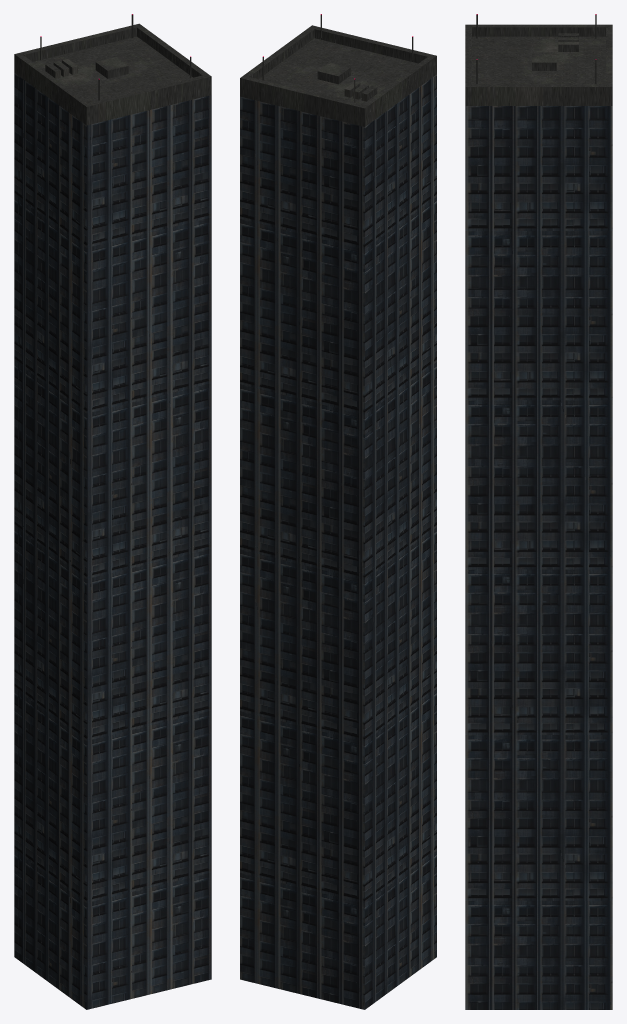
File: dark-skyscraper.glb
3 views of the same model, side by side, from view 1: azimuth 30°, elevation 25°; view 2: azimuth 150°, elevation 25°; view 3: azimuth 270°, elevation 25° (orthographic). The views are drawn at different scales.
Parts seen in each view (by area): view 1: dark-skyscraper.001; view 2: dark-skyscraper.001; view 3: dark-skyscraper.001.
Boxes of the visible parts, left/top/right/bottom form: dark-skyscraper.001: left=14, top=14, right=211, bottom=1009; dark-skyscraper.001: left=240, top=14, right=436, bottom=1009; dark-skyscraper.001: left=465, top=14, right=612, bottom=1009.
Bounding box in the file's own units: 15.94 × 112 × 15.94.
Materials: 3 (2 with a texture image).
